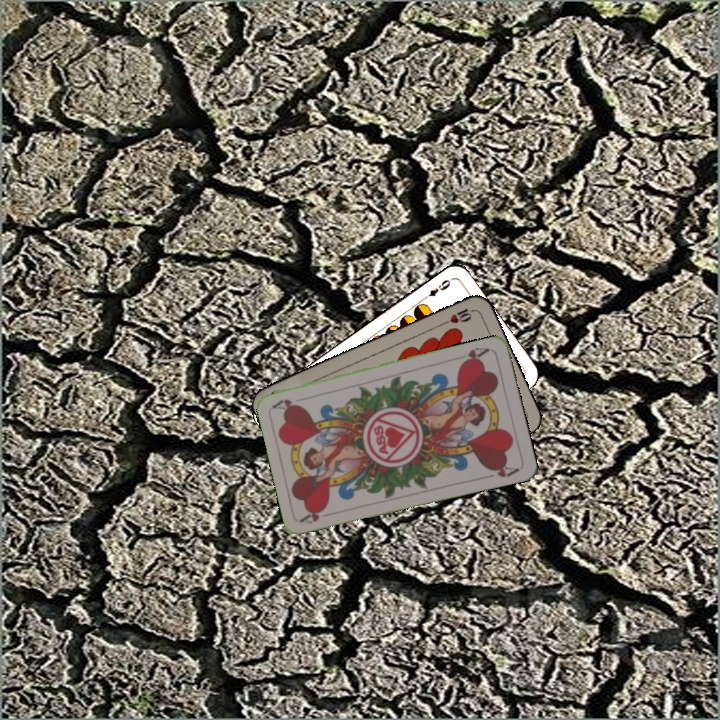E9: (419, 275, 453, 303)
H10: (438, 304, 477, 328)
HA: (297, 503, 338, 527), (453, 343, 492, 367)
